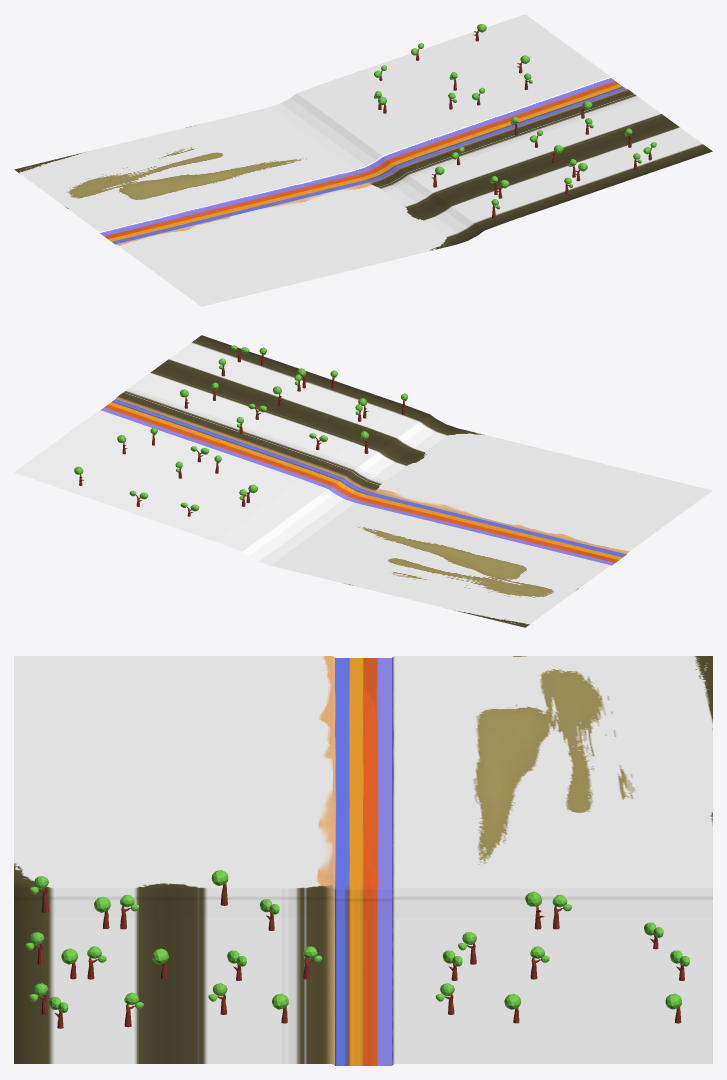
Rendered from forestBgeinPart.fbx.
The picture shows the model from 3 angles, top to bottom: view 1: azimuth 30°, elevation 25°; view 2: azimuth 150°, elevation 25°; view 3: azimuth 270°, elevation 25°; orthographic projection. The views are drawn at different scales.
Parts seen in each view (by area): view 1: forestBgeinPart; view 2: forestBgeinPart; view 3: forestBgeinPart.
Part boxes in pixels (bbox=[...]): forestBgeinPart: bbox=[14, 14, 712, 306]; forestBgeinPart: bbox=[14, 335, 712, 627]; forestBgeinPart: bbox=[14, 656, 712, 1065].
Bounding box in the file's own units: 28417 × 2342 × 18053.
